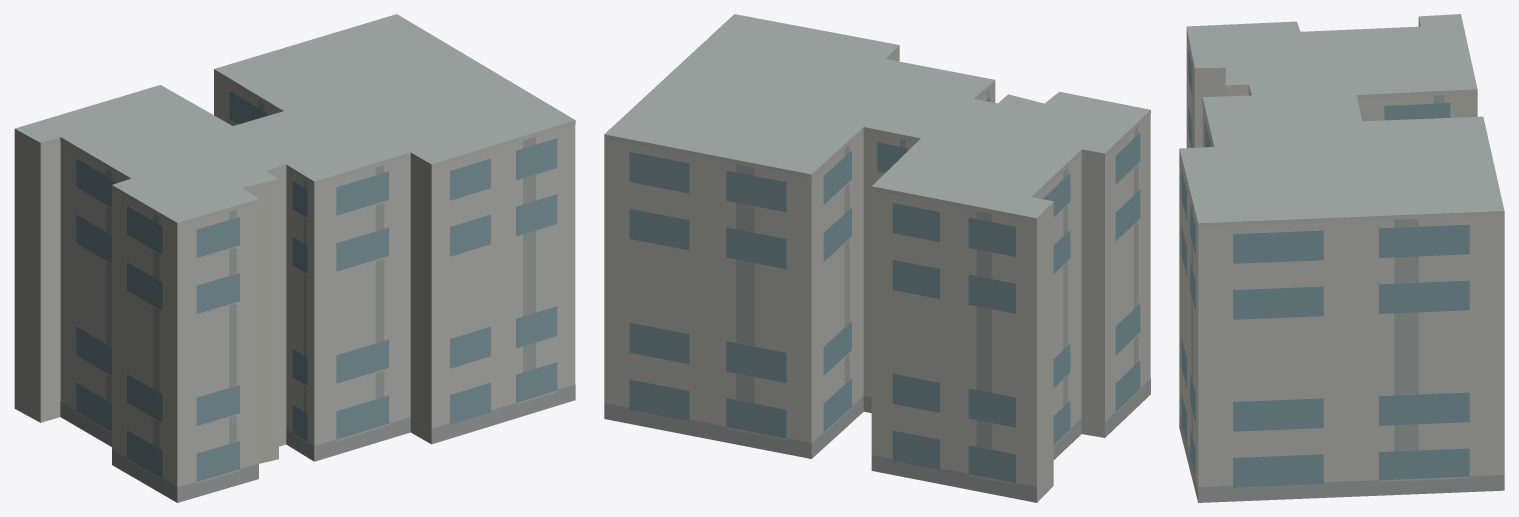
Rendered from survey-upis-32668241.glb.
3 renders of one model, left to right at view 1: azimuth 30°, elevation 25°; view 2: azimuth 150°, elevation 25°; view 3: azimuth 270°, elevation 25°, orthographic.
Visible parts, largest first — view 1: survey-upis-32668241.tmp; view 2: survey-upis-32668241.tmp; view 3: survey-upis-32668241.tmp.
Part boxes in pixels (<box>): survey-upis-32668241.tmp: <box>14,14,575,502</box>; survey-upis-32668241.tmp: <box>604,14,1150,502</box>; survey-upis-32668241.tmp: <box>1179,14,1504,502</box>.
Bounding box in the file's own units: 24.48 × 15.25 × 16.07.
